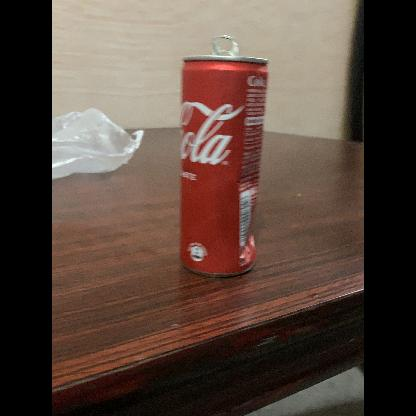Dent_Can: (232, 170, 260, 201), (236, 225, 258, 263)
Lid_Open: (206, 30, 246, 70)
Tin_Can: (176, 34, 274, 284)
